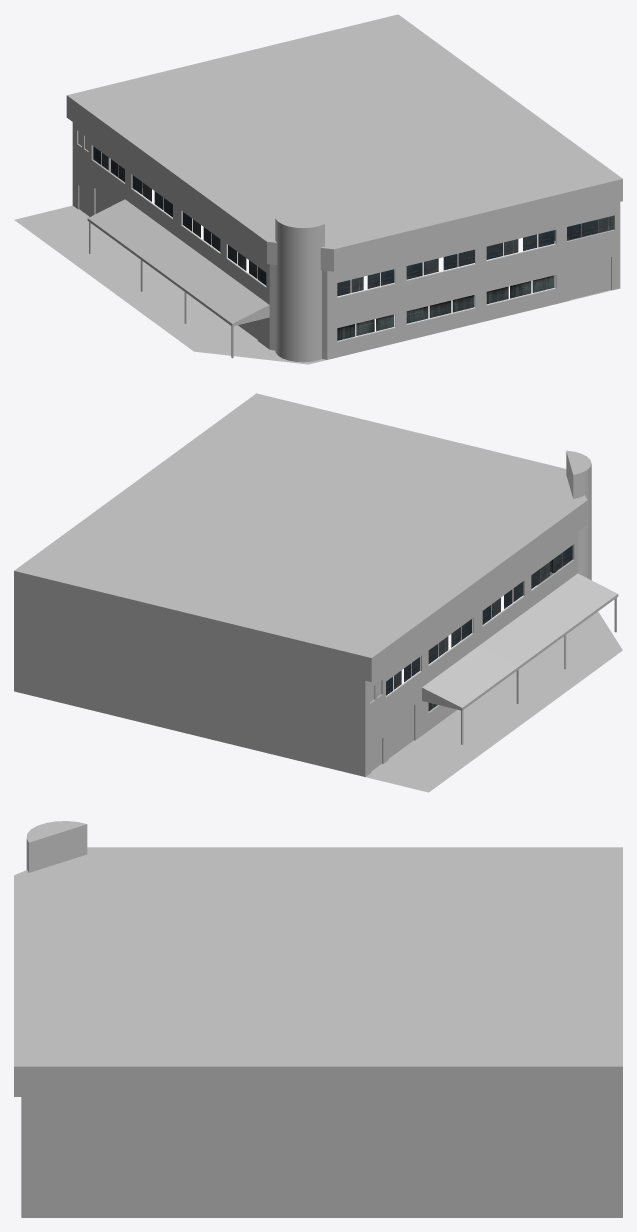
3 views of the same model, one above another, from view 1: azimuth 30°, elevation 25°; view 2: azimuth 150°, elevation 25°; view 3: azimuth 270°, elevation 25° (orthographic). The views are drawn at different scales.
Visible parts, largest first — view 1: EB-016; view 2: EB-016; view 3: EB-016.
Part boxes in pixels (bbox=[...]): EB-016: bbox=[14, 14, 622, 364]; EB-016: bbox=[14, 393, 622, 792]; EB-016: bbox=[14, 821, 622, 1217].
Size of what is drawn, in the model's own units: 36 by 12 by 36.45.
